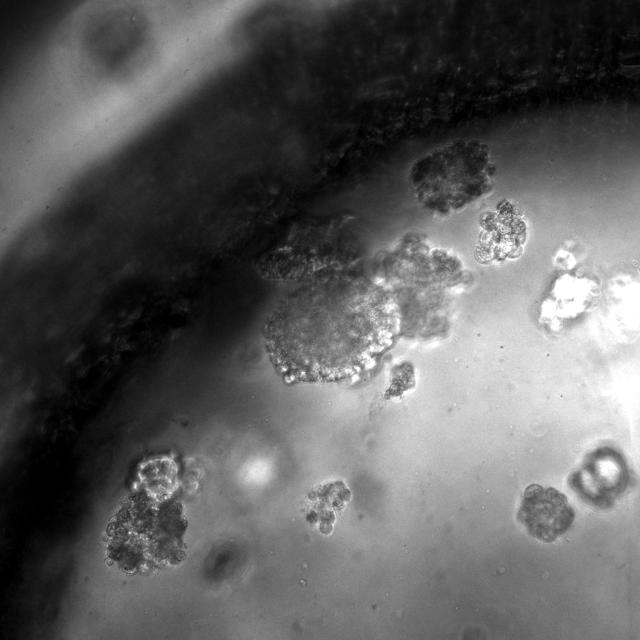organoid: (256, 215, 471, 383), (106, 455, 187, 574), (411, 139, 494, 215), (569, 445, 632, 509), (474, 199, 526, 262), (518, 484, 574, 542), (304, 480, 351, 534), (384, 362, 414, 399)
